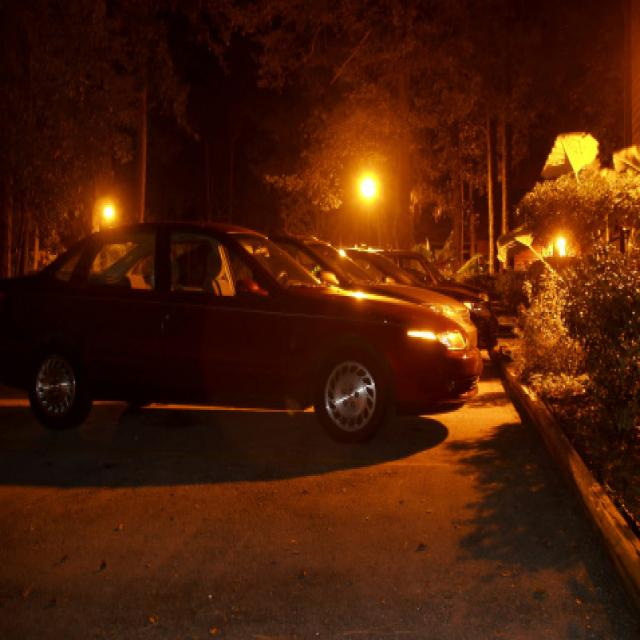Car: (21, 210, 498, 462), (275, 205, 495, 306), (340, 218, 444, 294), (376, 235, 452, 282)
